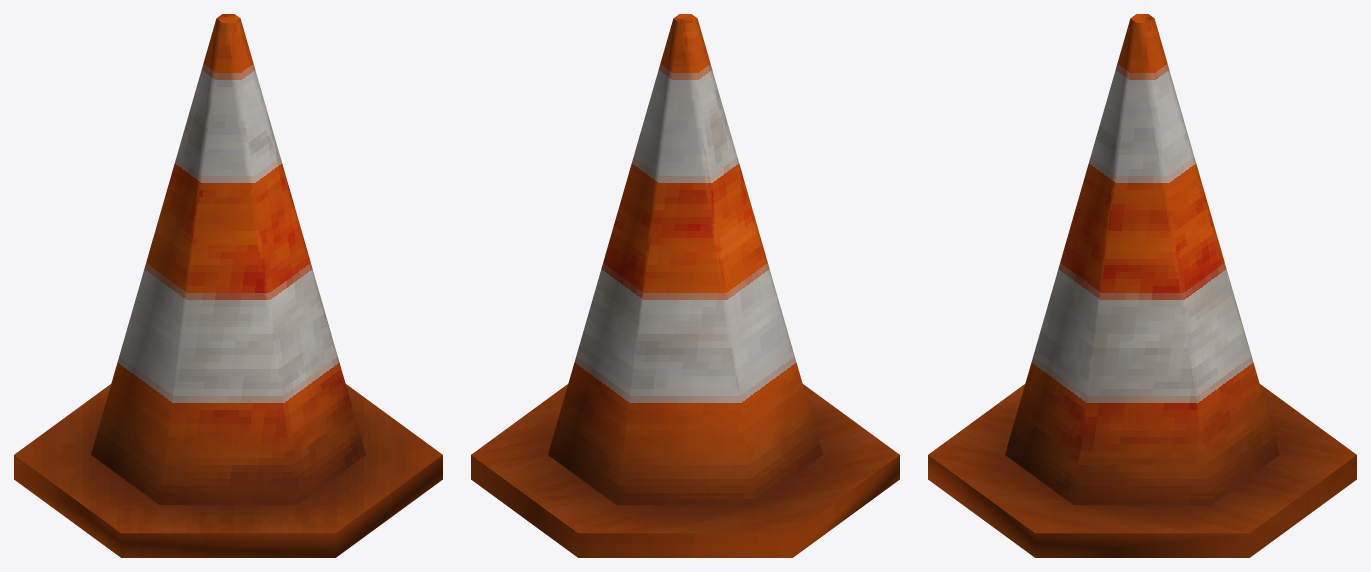
Rendered from trafficcone.glb.
The picture shows the model from 3 angles, left to right: view 1: azimuth 30°, elevation 25°; view 2: azimuth 150°, elevation 25°; view 3: azimuth 270°, elevation 25°; orthographic projection.
Visible parts, largest first — view 1: Prop_TrafficCone; view 2: Prop_TrafficCone; view 3: Prop_TrafficCone.
Boxes of the visible parts, x1,y1,x2,y2 form: Prop_TrafficCone: [14, 14, 442, 557]; Prop_TrafficCone: [471, 14, 899, 557]; Prop_TrafficCone: [928, 14, 1356, 557].
Bounding box in the file's own units: 0.54 × 0.7395 × 0.6235.
Materials: 1 (1 with a texture image).
